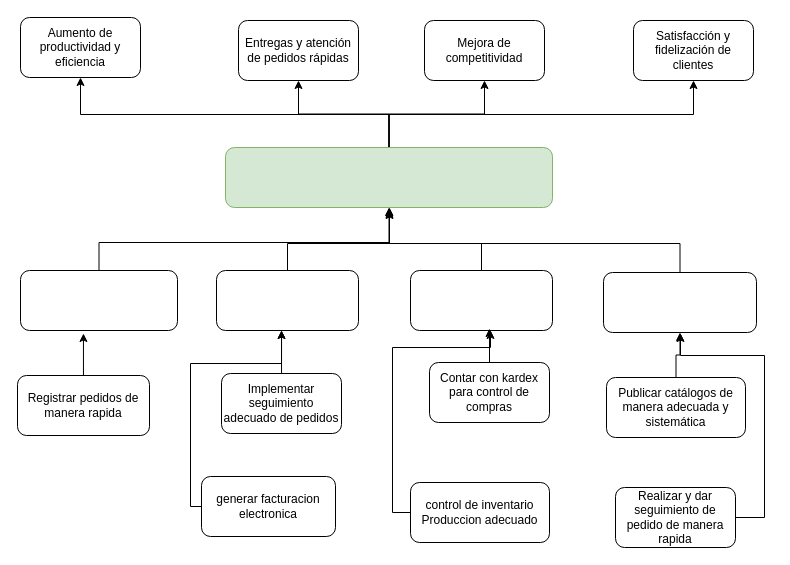
Some shapes in this 790 by 565 pixel diagram are drawn without their labels. The centre of each missing label's shape, as x and y in pixels:
"Agilizar la toma de pedidos" belongs at point 99,300.
"Garantizar control eficiente de insumos" belongs at point 481,300.
"Mejorar la entrega de pedidos" belongs at point 287,300.
"Mejorar procesos de compras, pedidos y ventas mediante metodo efecientes" belongs at point 388,177.
"Optimizar procesos de servicio a clientes" belongs at point 679,302.
